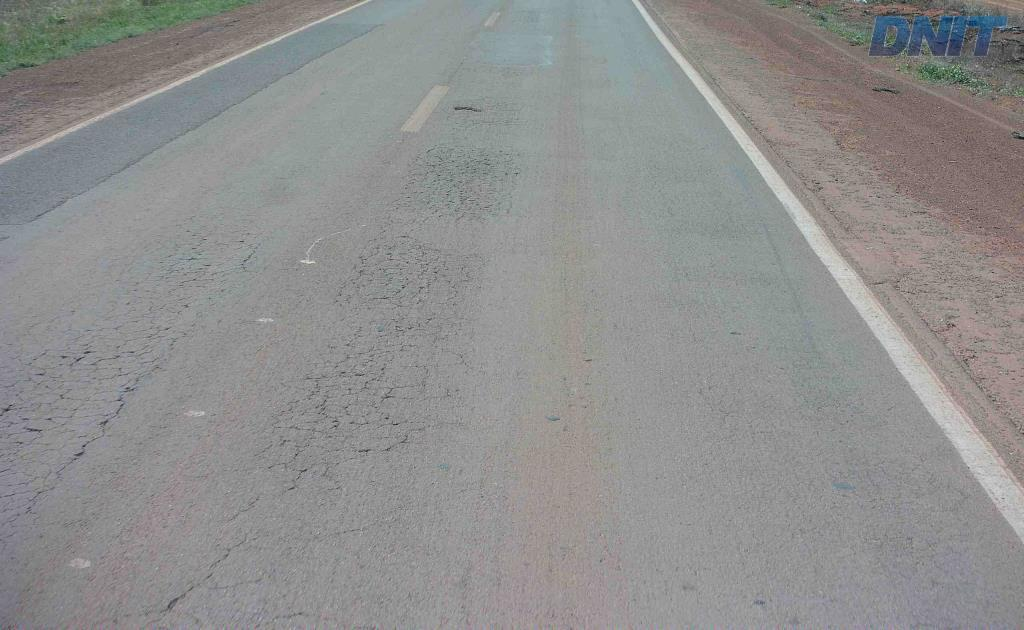pothole: (448, 100, 484, 115)
